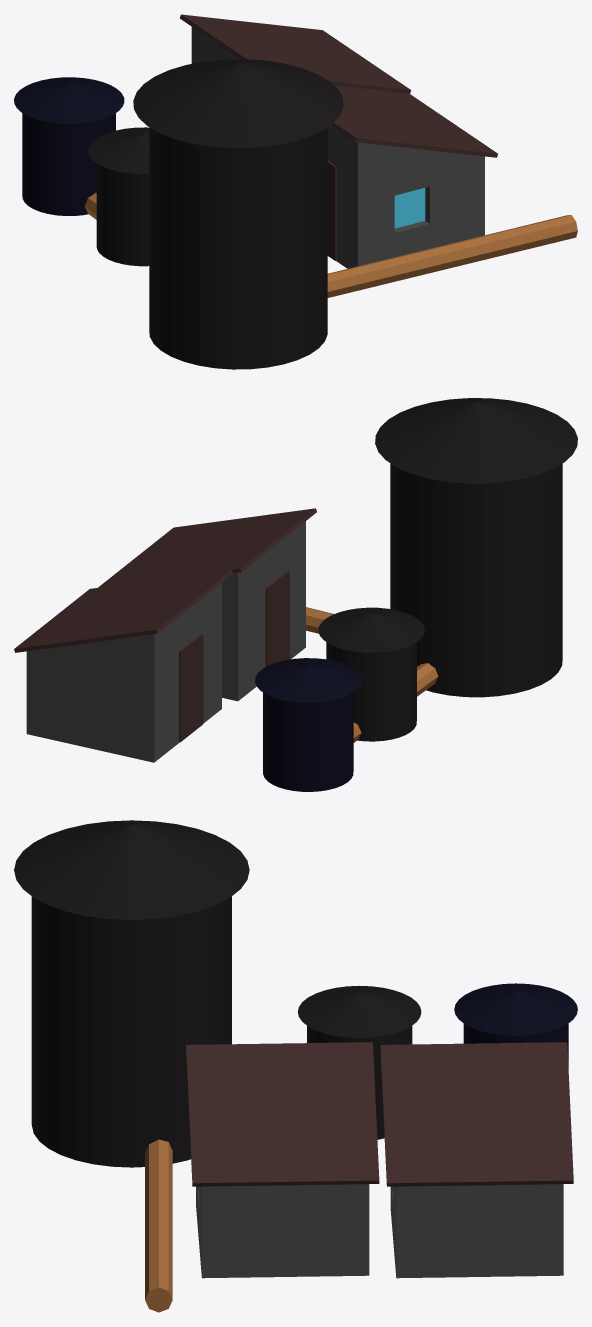
File: water_extractor.fbx
3 renders of one model, top to bottom at view 1: azimuth 30°, elevation 25°; view 2: azimuth 150°, elevation 25°; view 3: azimuth 270°, elevation 25°, orthographic. The views are drawn at different scales.
Visible parts, largest first — view 1: Cylinder.002, Cube.001, Cylinder.004, Cube.005, Cylinder.003, Cylinder.001, Cube.002; view 2: Cylinder.002, Cube.005, Cube.001, Cylinder.004, Cylinder.003, Cube.006, Cube.002, Cylinder.005; view 3: Cylinder.002, Cube.001, Cube.005, Cylinder.003, Cylinder.004, Cylinder.001.
Boxes of the visible parts, bbox=[...] form: Cylinder.002: bbox=[133, 59, 343, 369]; Cube.001: bbox=[327, 85, 497, 268]; Cylinder.004: bbox=[14, 77, 124, 215]; Cube.005: bbox=[180, 14, 411, 93]; Cylinder.003: bbox=[88, 127, 149, 266]; Cylinder.001: bbox=[327, 215, 577, 297]; Cube.002: bbox=[327, 161, 336, 260]; Cylinder.002: bbox=[375, 398, 577, 697]; Cube.005: bbox=[14, 569, 233, 762]; Cube.001: bbox=[98, 508, 316, 701]; Cylinder.004: bbox=[255, 658, 361, 791]; Cylinder.003: bbox=[318, 607, 424, 741]; Cube.006: bbox=[179, 634, 203, 742]; Cube.002: bbox=[265, 570, 289, 666]; Cylinder.005: bbox=[353, 663, 438, 742]; Cylinder.002: bbox=[14, 820, 249, 1167]; Cube.001: bbox=[186, 1042, 379, 1278]; Cube.005: bbox=[380, 1042, 573, 1278]; Cylinder.003: bbox=[298, 985, 421, 1139]; Cylinder.004: bbox=[454, 983, 577, 1066]; Cylinder.001: bbox=[145, 1139, 172, 1312].
Size of the model in its own units: 203 by 120 by 203.
